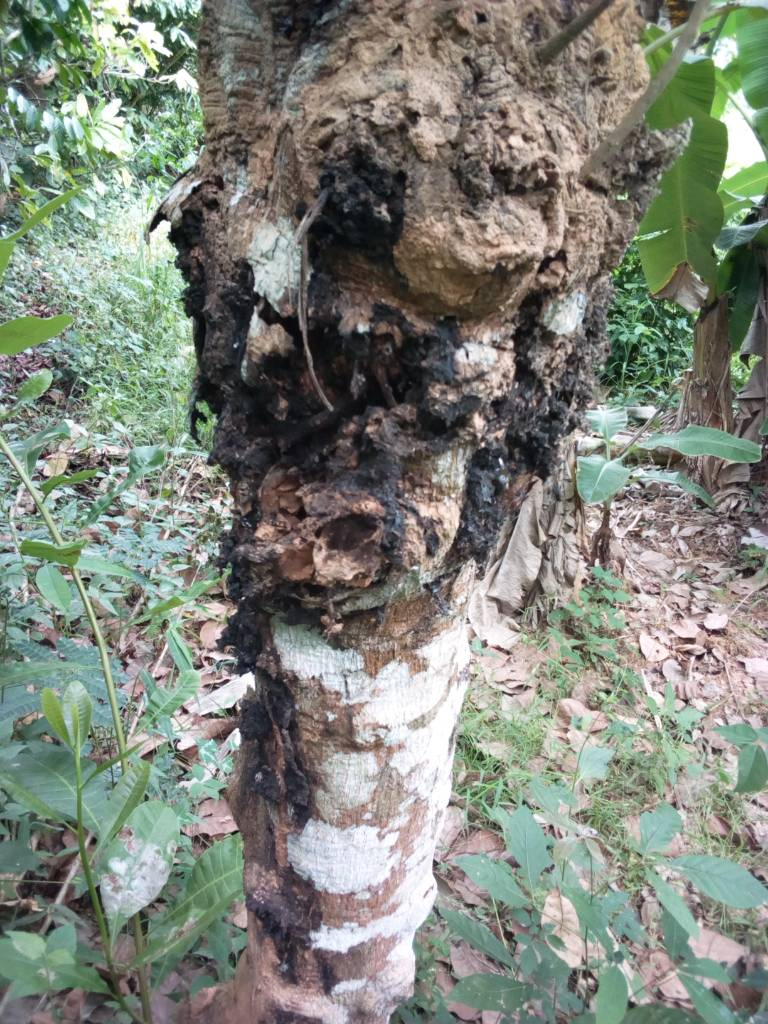Termites: (274, 2, 638, 310)
